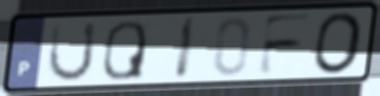0: (211, 15, 252, 78)
F: (255, 11, 317, 78)
I: (172, 15, 199, 82)
O: (313, 9, 366, 76)
Q: (100, 18, 148, 82)
U: (45, 19, 100, 85)
